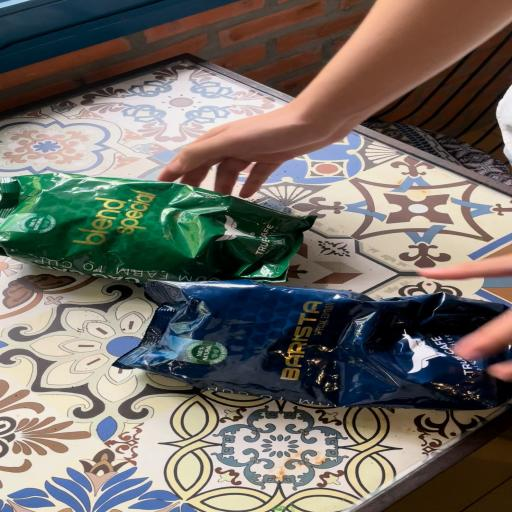cafe_hat: (115, 280, 512, 410)
cafe_xay: (0, 173, 314, 282)
